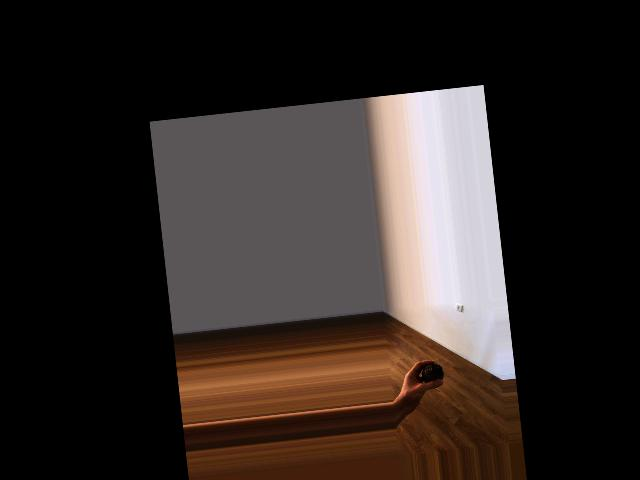beet: (420, 362, 446, 393)
